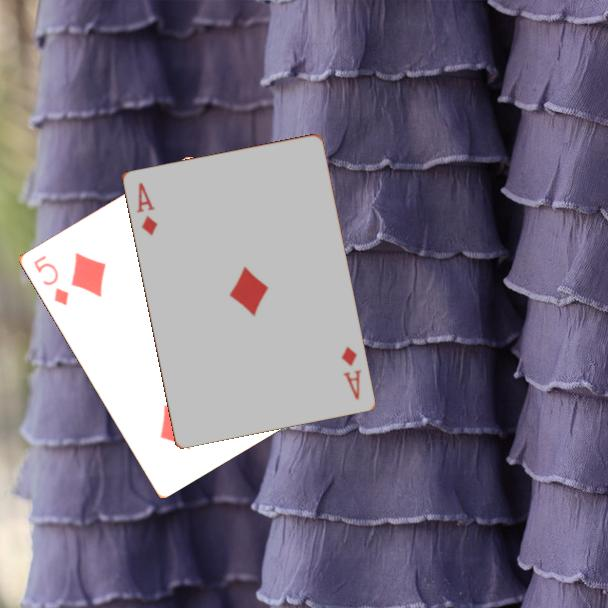d01: (337, 343, 364, 403), (133, 179, 160, 238)
d05: (30, 252, 71, 308)
